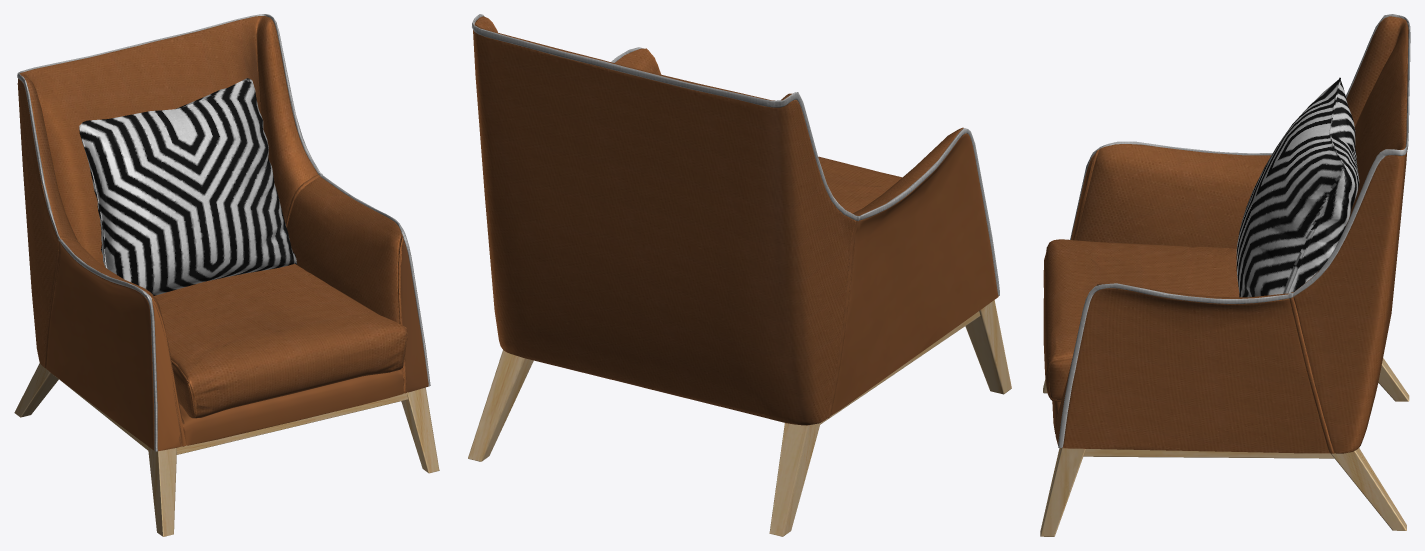
The model's file is raw_model.obj.
3 views of the same model, side by side, from view 1: azimuth 30°, elevation 25°; view 2: azimuth 150°, elevation 25°; view 3: azimuth 270°, elevation 25° (orthographic). The views are drawn at different scales.
Parts seen in each view (by area): view 1: solid_003, solid_002, solid_001, solid_004; view 2: solid_003, solid_001, solid_004; view 3: solid_003, solid_002, solid_001, solid_004.
Part boxes in pixels (x1,y1,x2,y2): solid_003: (17,16,428,451); solid_002: (79,78,296,295); solid_001: (14,363,439,536); solid_004: (17,14,430,451); solid_003: (473,16,998,425); solid_001: (468,300,1011,536); solid_004: (472,14,999,295); solid_003: (1043,16,1408,453); solid_002: (1236,77,1359,297); solid_001: (1040,358,1409,536); solid_004: (1058,14,1410,447).
Size of the model in its own units: 0.7004 by 0.8331 by 0.7323.
1 material, 1 textured.
